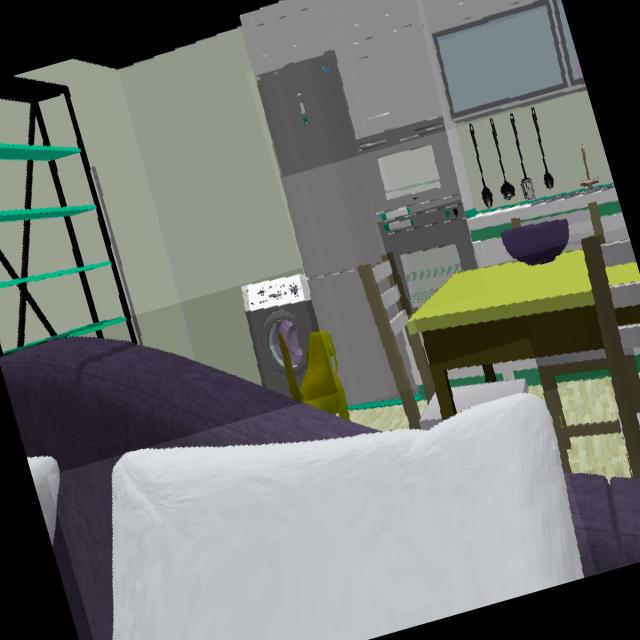cabinet: (241, 0, 587, 140)
chair: (357, 254, 442, 431), (581, 235, 640, 478)
fridge: (255, 49, 398, 406)
microwave: (358, 116, 462, 225)
oven: (381, 203, 478, 313)
pillow: (109, 395, 585, 640)
sofa: (0, 337, 378, 640), (569, 476, 640, 576)
table: (408, 252, 605, 420)
